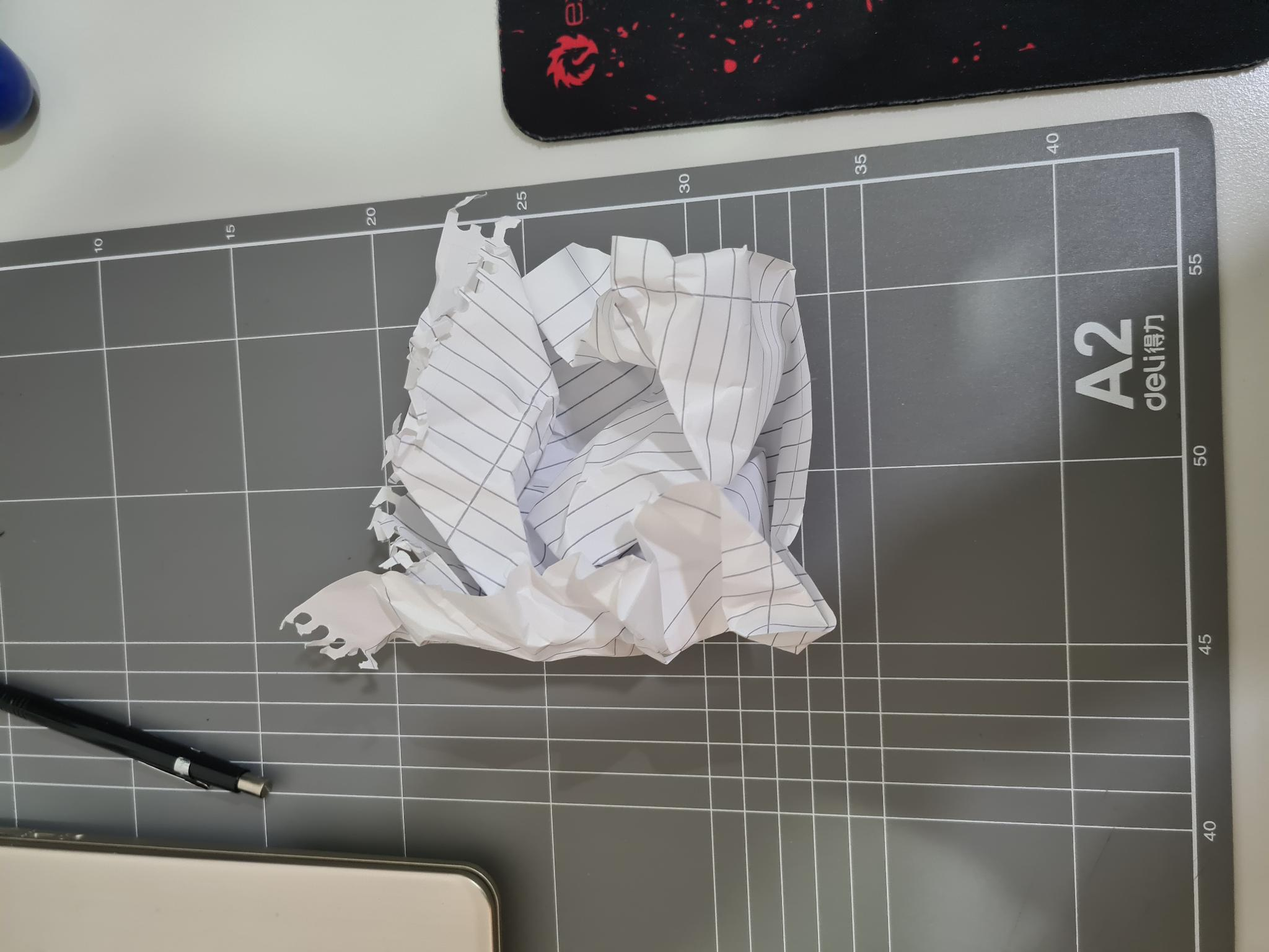Kertas: (285, 287, 714, 836)
